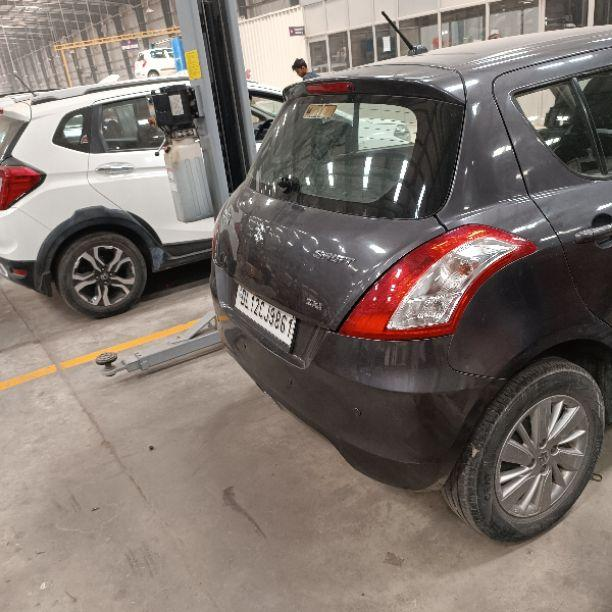license_plate: (232, 282, 297, 352)
